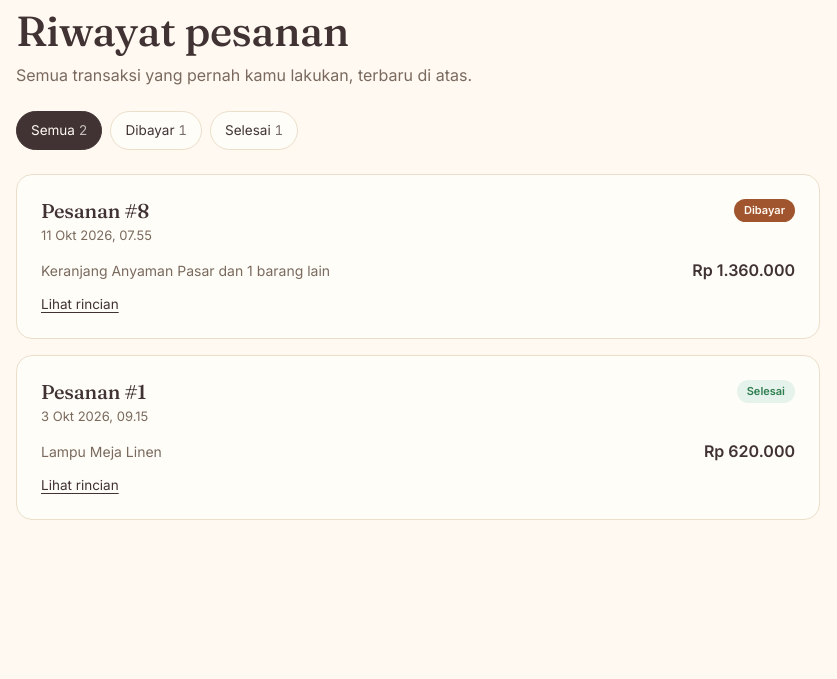
Scenario: OrdersView › membuka rincian barang dan alamat
The width and height of the screenshot is (837, 679).
Step 1. Click the button with class "order__toggle" below "Pesanan #8" → click(80, 304), box [41, 294, 119, 314]
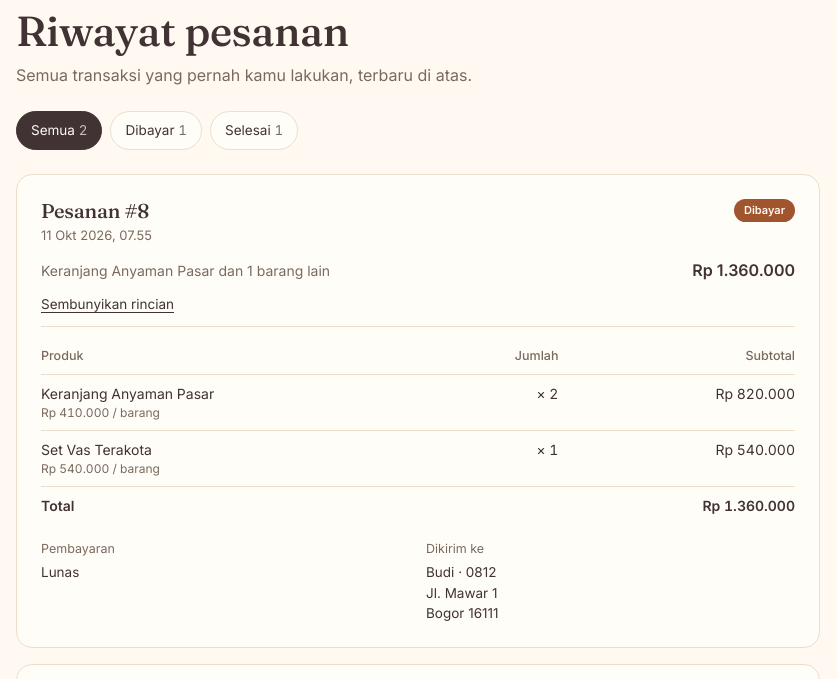
Expected: the button with class "order__toggle" is expanded, [41, 294, 174, 314]
Expected: the text "Set Vas Terakota" is shown, [41, 440, 152, 458]
Expected: the text "Jl. Mawar 1" is shown, [426, 584, 497, 600]
